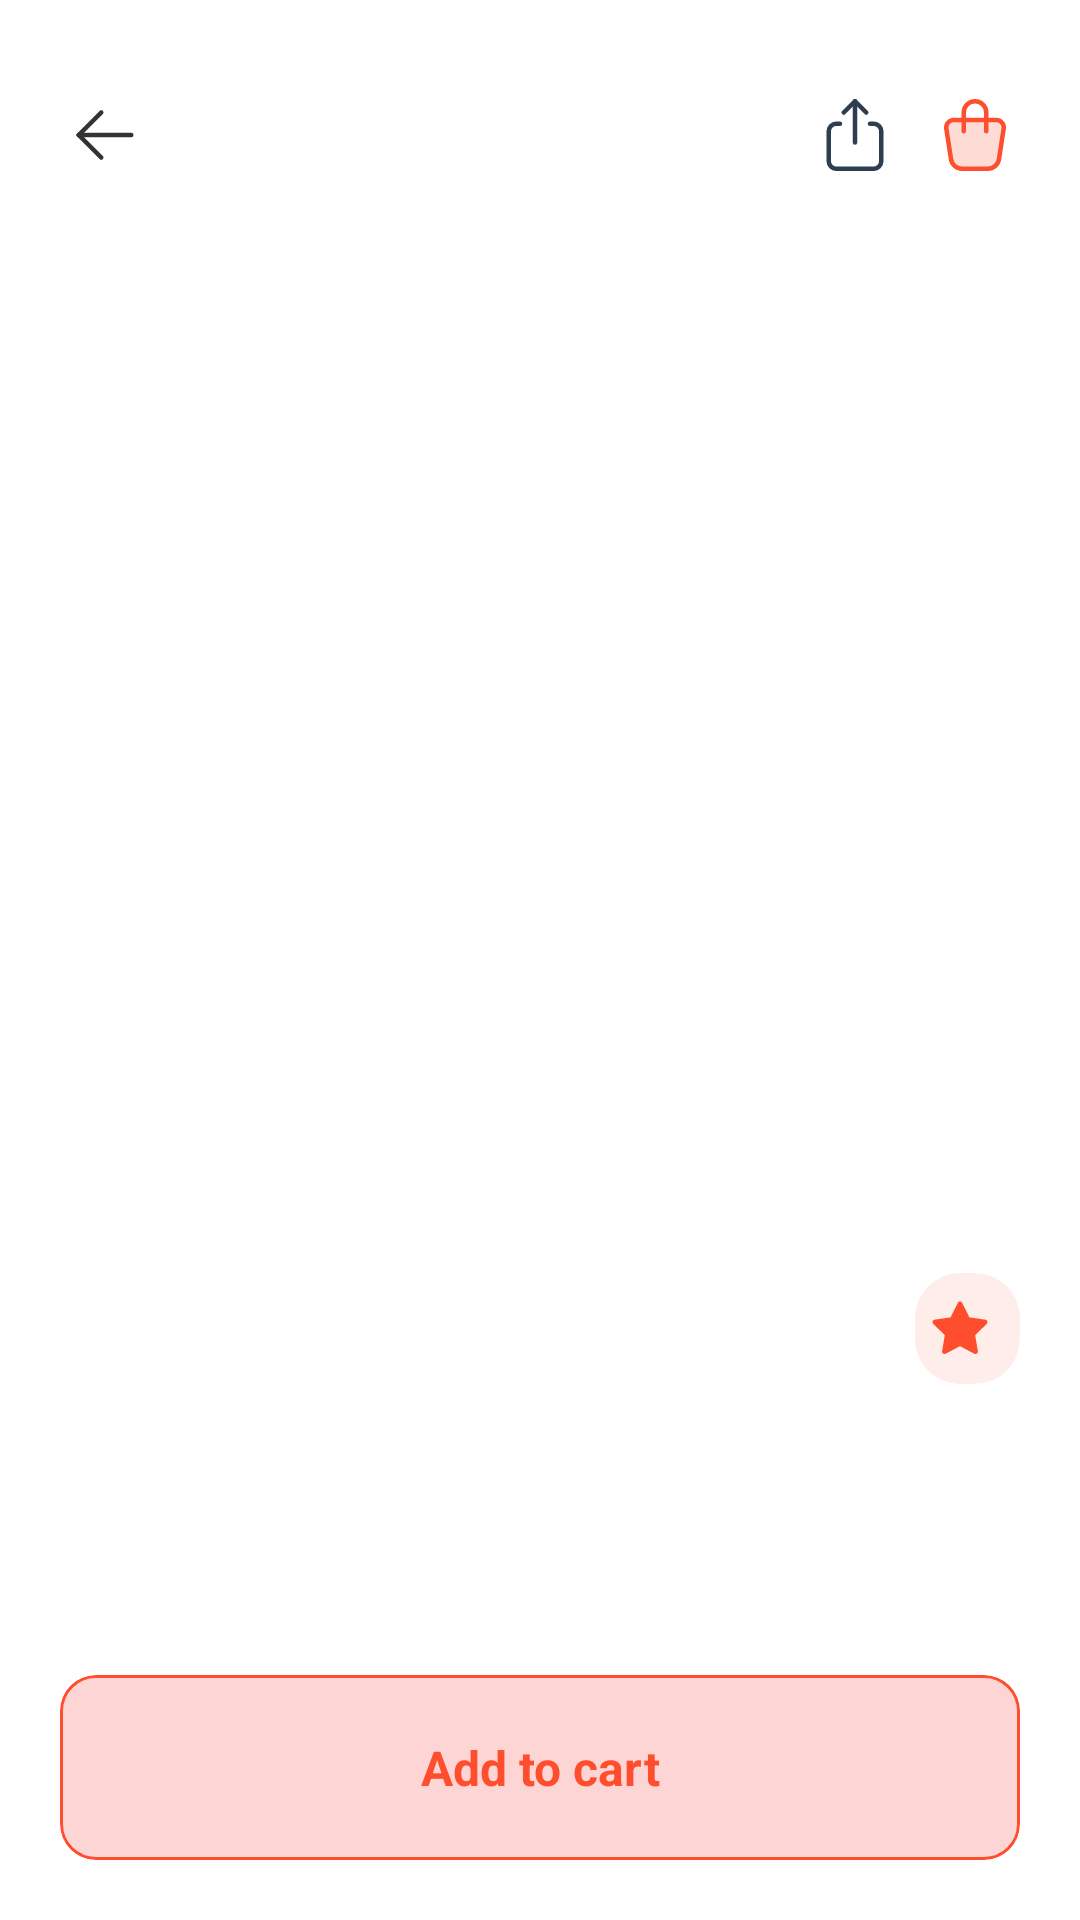

Screen size 1080 x 1920. Icon name, then its center in pixels as (x=x, y=y):
back: (x=105, y=135)
cart: (x=975, y=135)
share: (x=855, y=135)
star: (x=960, y=1327)
